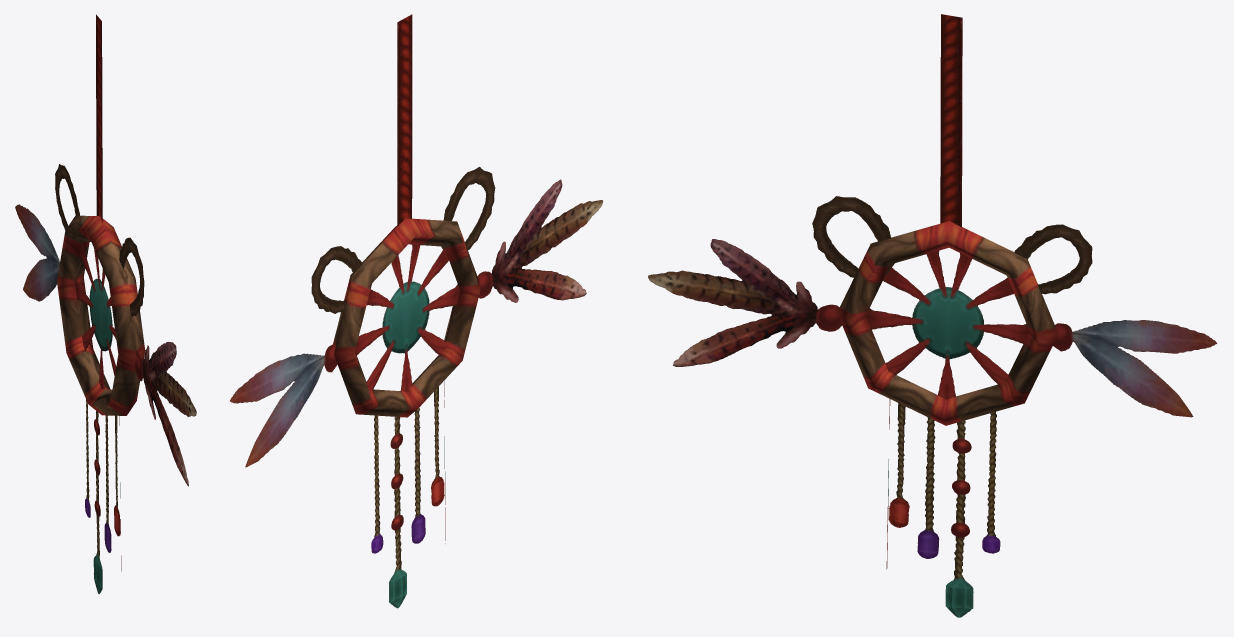
The model's file is environment_common_guashi_001_a.FBX.
3 views of the same model, side by side, from view 1: azimuth 30°, elevation 25°; view 2: azimuth 150°, elevation 25°; view 3: azimuth 270°, elevation 25° (orthographic). The views are drawn at different scales.
Visible parts, largest first — view 1: environment_common_guashi_001_a, environment_common_guashi_001_b; view 2: environment_common_guashi_001_a, environment_common_guashi_001_b; view 3: environment_common_guashi_001_a, environment_common_guashi_001_b.
Boxes of the visible parts, bbox=[...] form: environment_common_guashi_001_a: bbox=[15, 164, 196, 593]; environment_common_guashi_001_b: bbox=[96, 14, 102, 222]; environment_common_guashi_001_a: bbox=[230, 167, 603, 608]; environment_common_guashi_001_b: bbox=[397, 14, 412, 226]; environment_common_guashi_001_a: bbox=[648, 196, 1217, 617]; environment_common_guashi_001_b: bbox=[940, 14, 962, 227].
Bounding box in the file's own units: 26.64 × 155 × 136.
